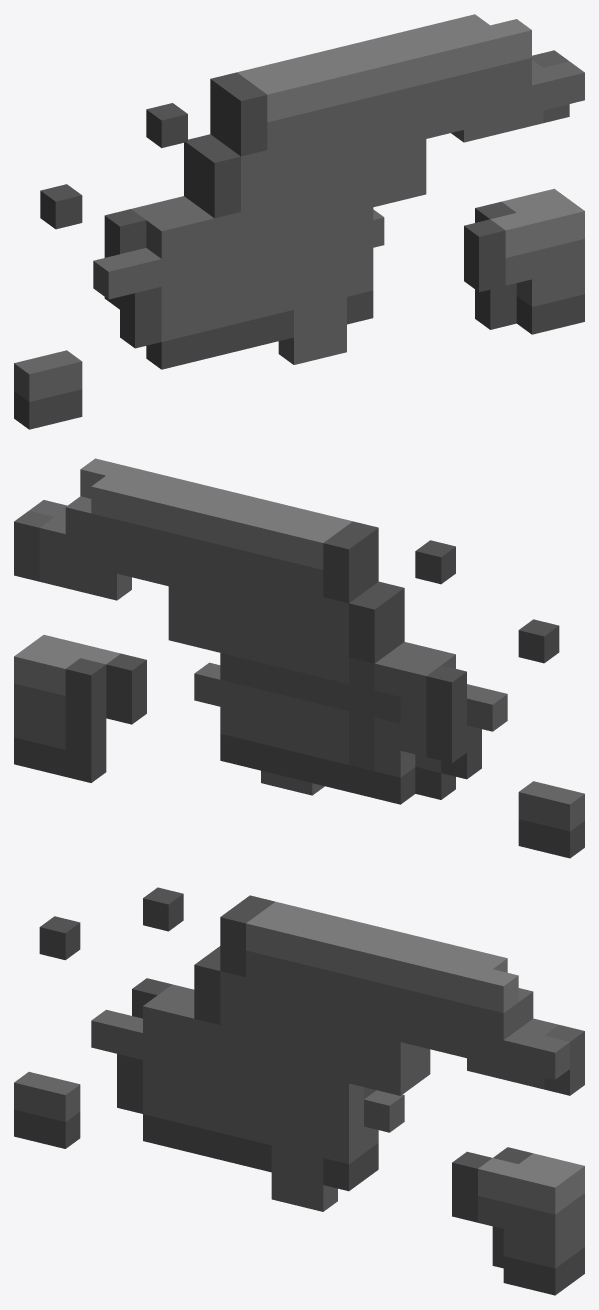
File: Dirt-10.obj
The picture shows the model from 3 angles, top to bottom: view 1: azimuth 30°, elevation 25°; view 2: azimuth 150°, elevation 25°; view 3: azimuth 330°, elevation 25°; orthographic projection. The views are drawn at different scales.
Parts seen in each view (by area): view 1: Dirt-10; view 2: Dirt-10; view 3: Dirt-10.
Boxes of the visible parts, <box> form: Dirt-10: <box>14,14,584,429</box>; Dirt-10: <box>14,458,584,858</box>; Dirt-10: <box>14,887,584,1295</box>.
Bounding box in the file's own units: 0.42 × 0.22 × 0.04.
